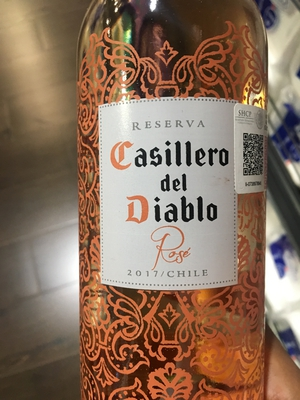casillero del diablo rose: (71, 12, 278, 400)
